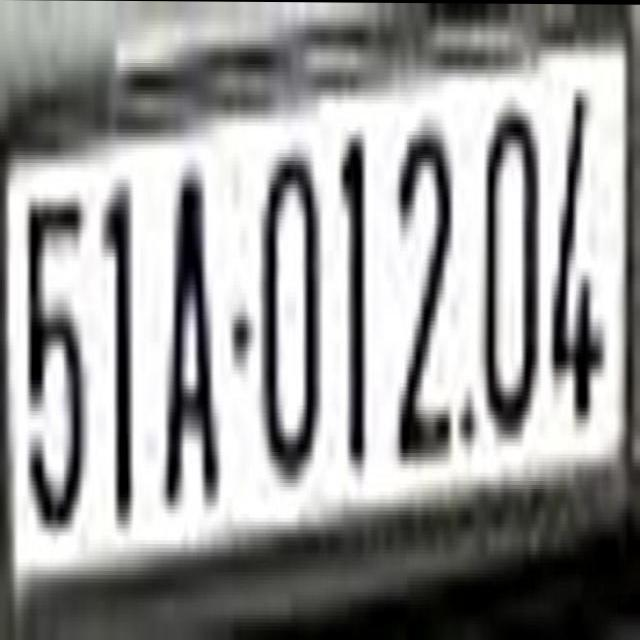0: (255, 129, 322, 510), (478, 92, 538, 449)
1: (95, 160, 143, 544), (333, 99, 370, 475)
2: (389, 126, 454, 492)
4: (546, 73, 606, 430)
5: (26, 190, 83, 547)
A: (158, 148, 224, 513)
